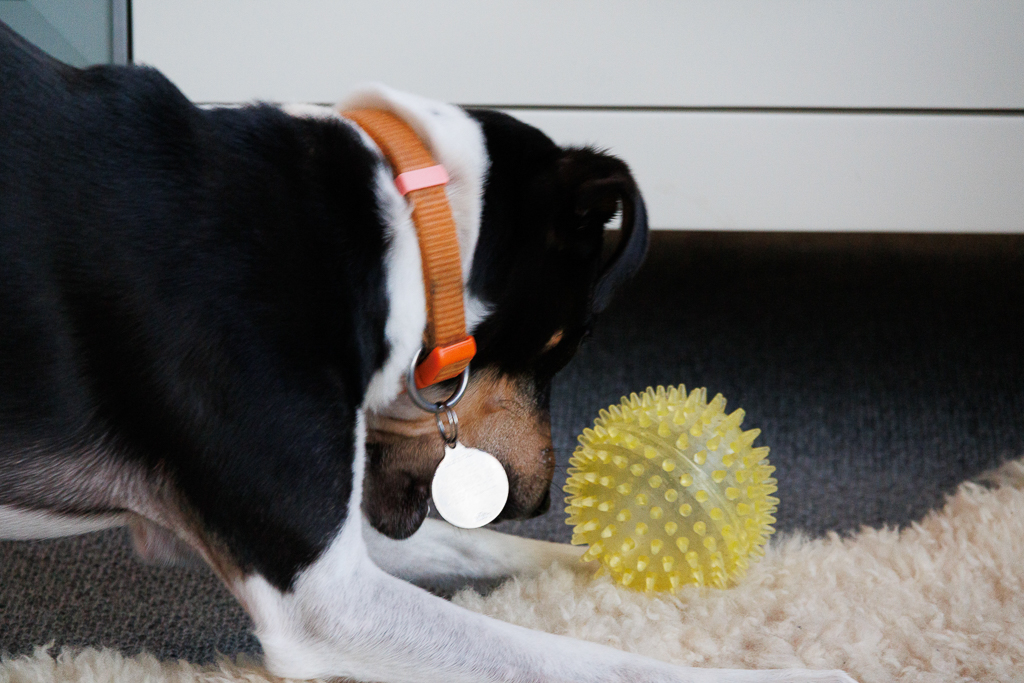Dog: (0, 14, 865, 682)
